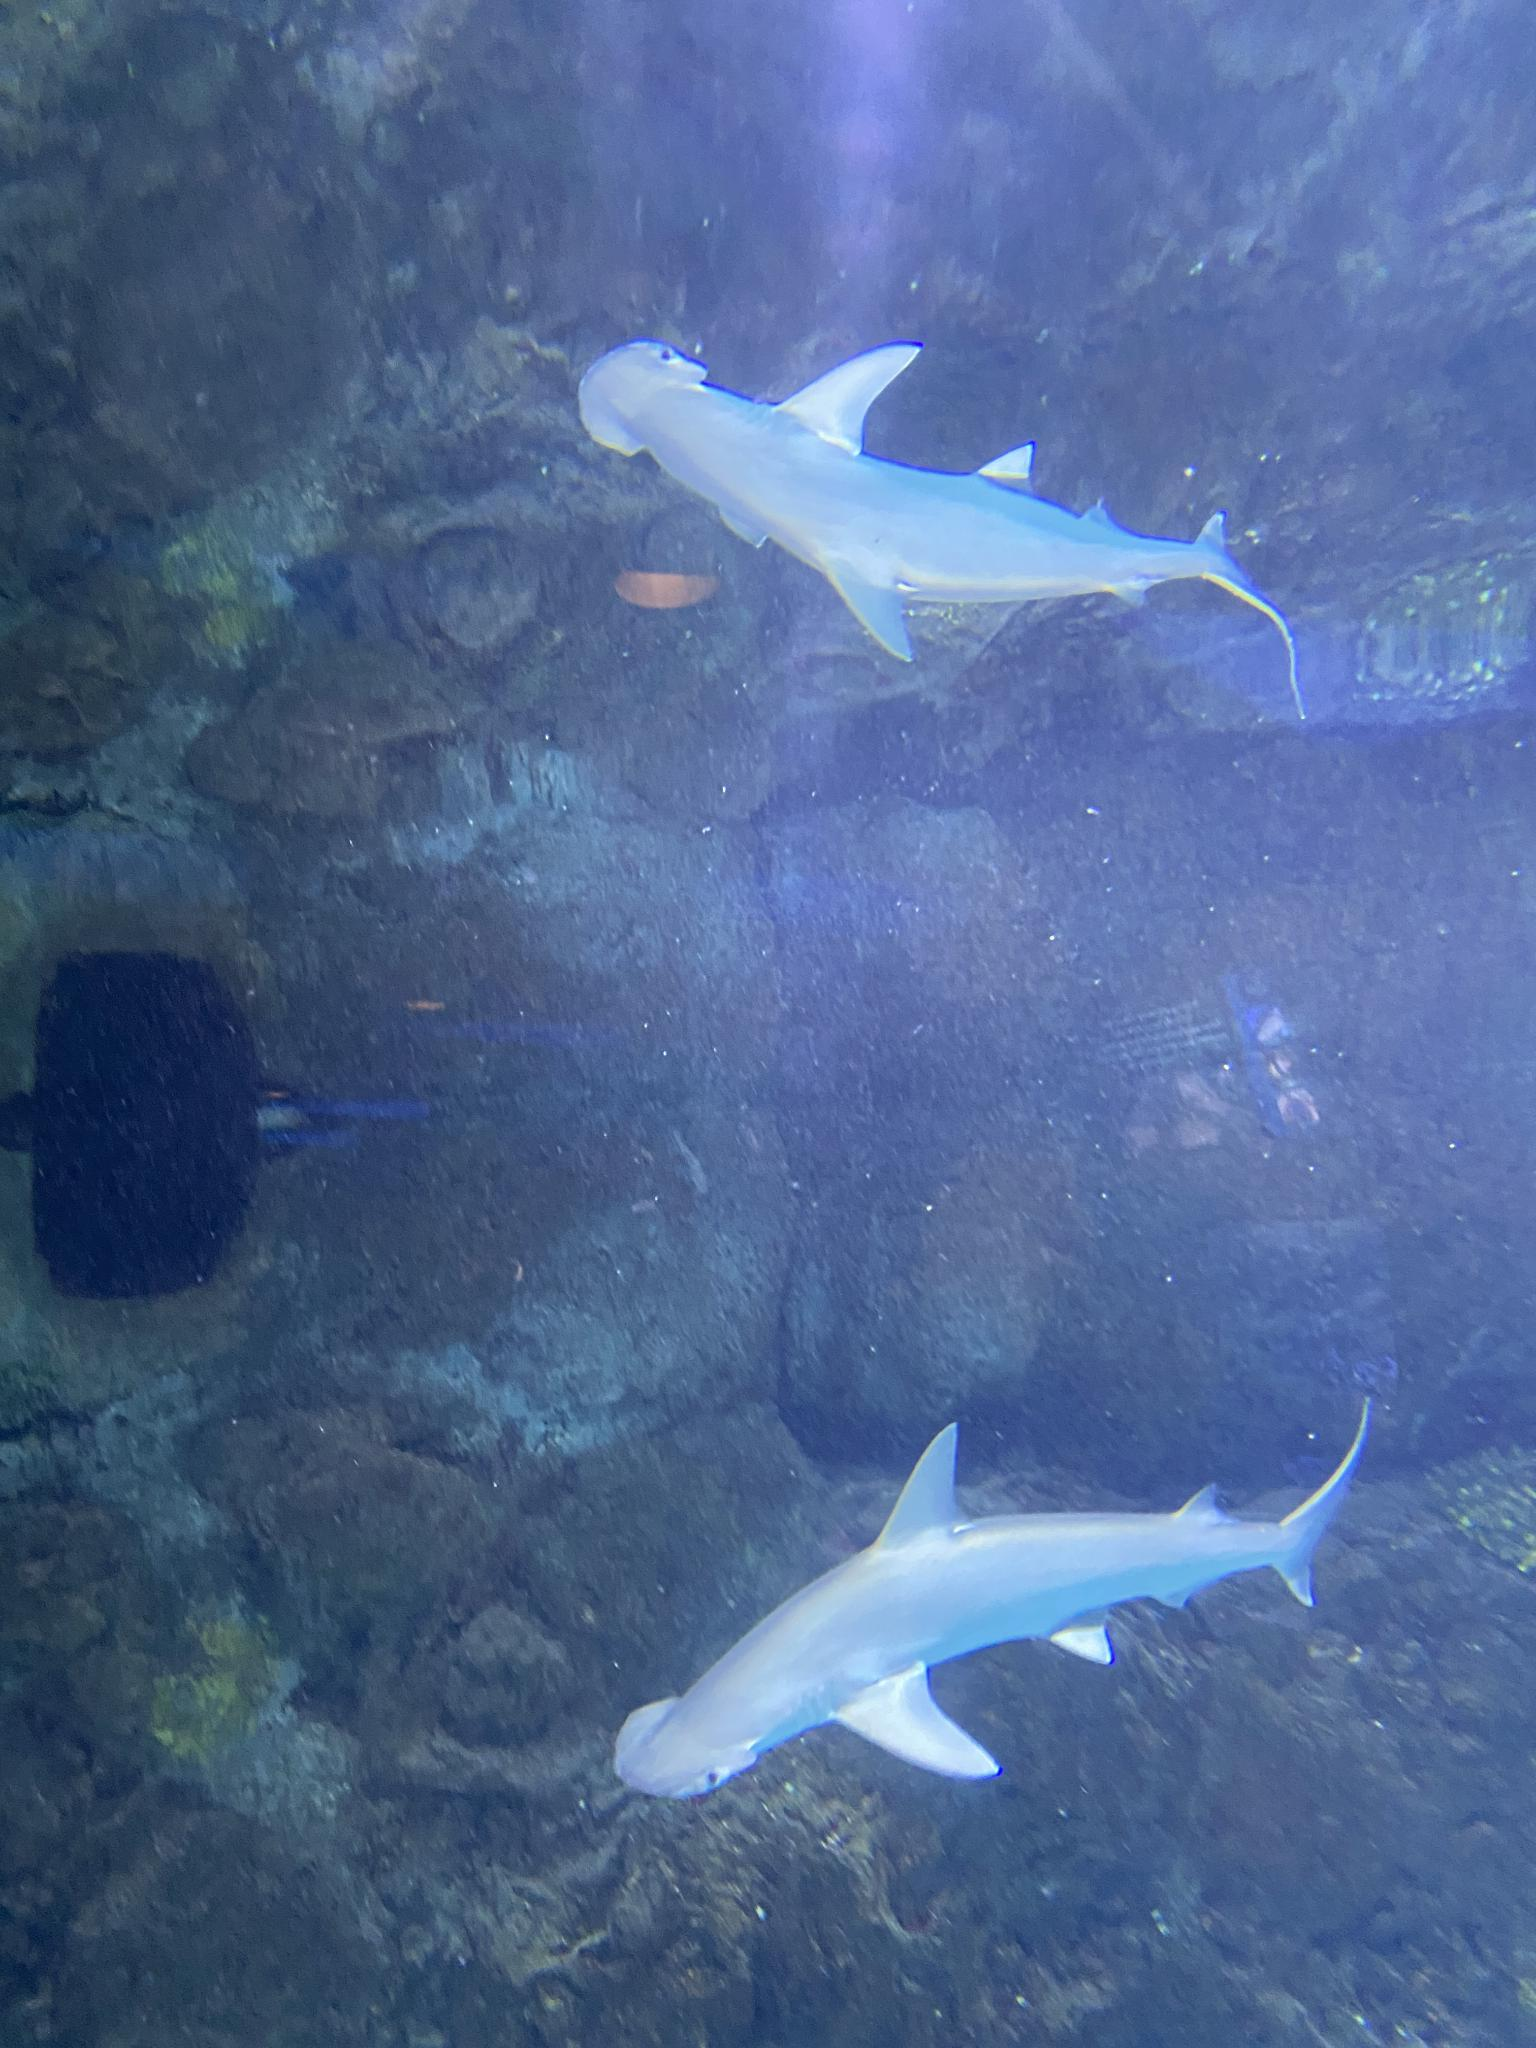shark: (550, 1421, 1368, 1808), (565, 327, 1300, 739)
